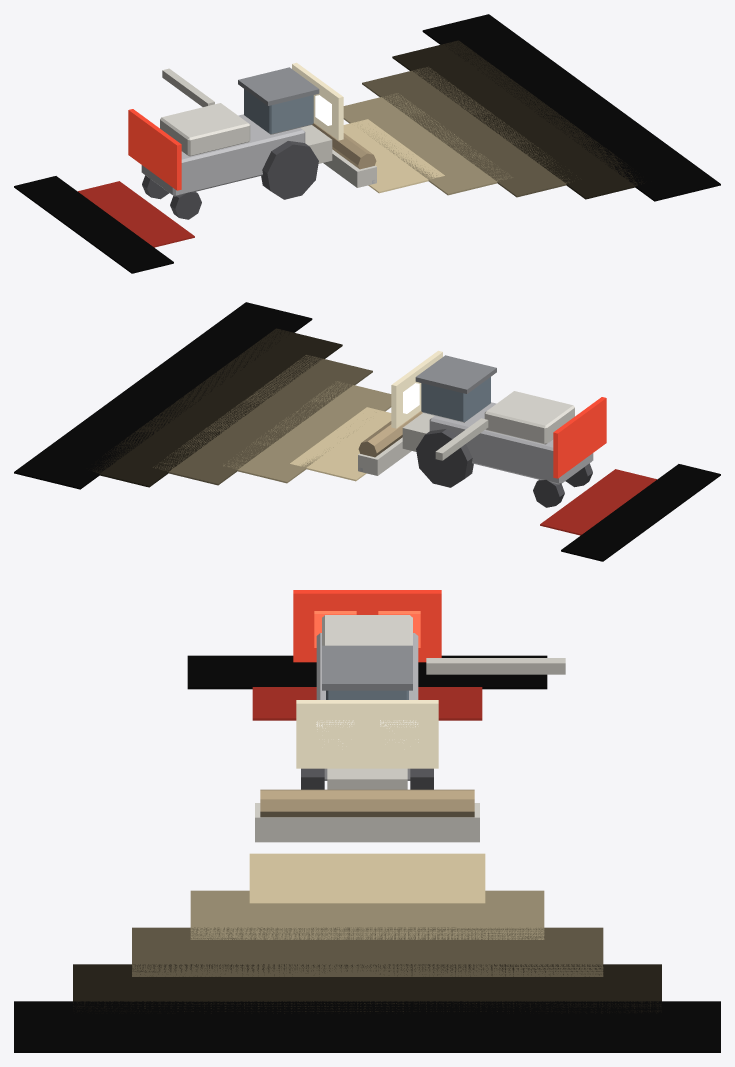
The model's file is veh_combine.glb.
3 renders of one model, top to bottom at view 1: azimuth 30°, elevation 25°; view 2: azimuth 150°, elevation 25°; view 3: azimuth 270°, elevation 25°, orthographic. The views are drawn at different scales.
Parts seen in each view (by area): view 1: veh_combine; view 2: veh_combine; view 3: veh_combine.
Boxes of the visible parts, x1,y1,x2,y2 form: veh_combine: (14, 14, 720, 273); veh_combine: (14, 302, 720, 561); veh_combine: (14, 590, 720, 1052).
Bounding box in the file's own units: 1.5 × 0.262 × 1.14.
